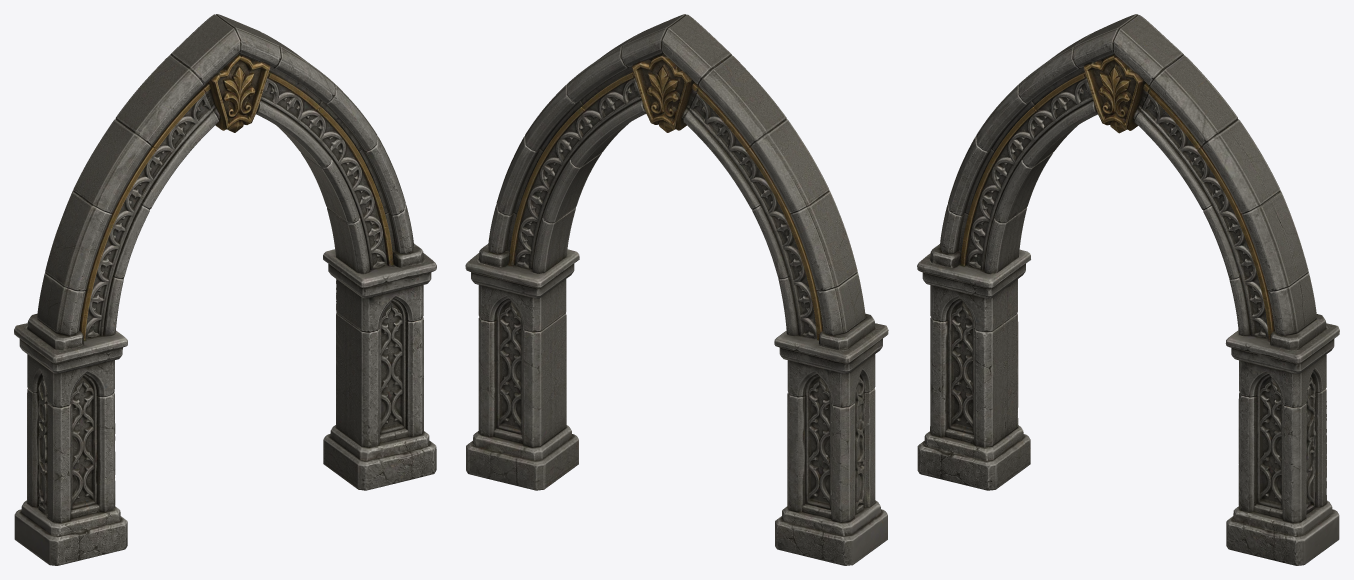
Rendered from Meshy_AI_A_single_standalone_m_0823050520_texture.glb.
The picture shows the model from 3 angles, left to right: view 1: azimuth 30°, elevation 25°; view 2: azimuth 150°, elevation 25°; view 3: azimuth 330°, elevation 25°; orthographic projection.
Visible parts, largest first — view 1: mesh_node; view 2: mesh_node; view 3: mesh_node.
Part boxes in pixels (box(x1,y1,x2,y2)): mesh_node: box(14, 14, 436, 565); mesh_node: box(465, 14, 888, 565); mesh_node: box(917, 14, 1339, 565).
Size of the model in its own units: 1.59 by 1.9 by 0.2967.
Materials: 1 (1 with a texture image).
